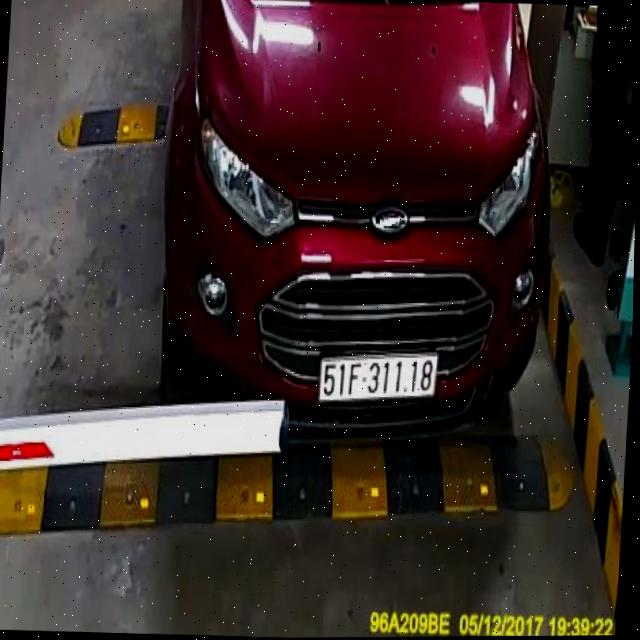car: (140, 0, 571, 462)
plate: (310, 345, 444, 408)
